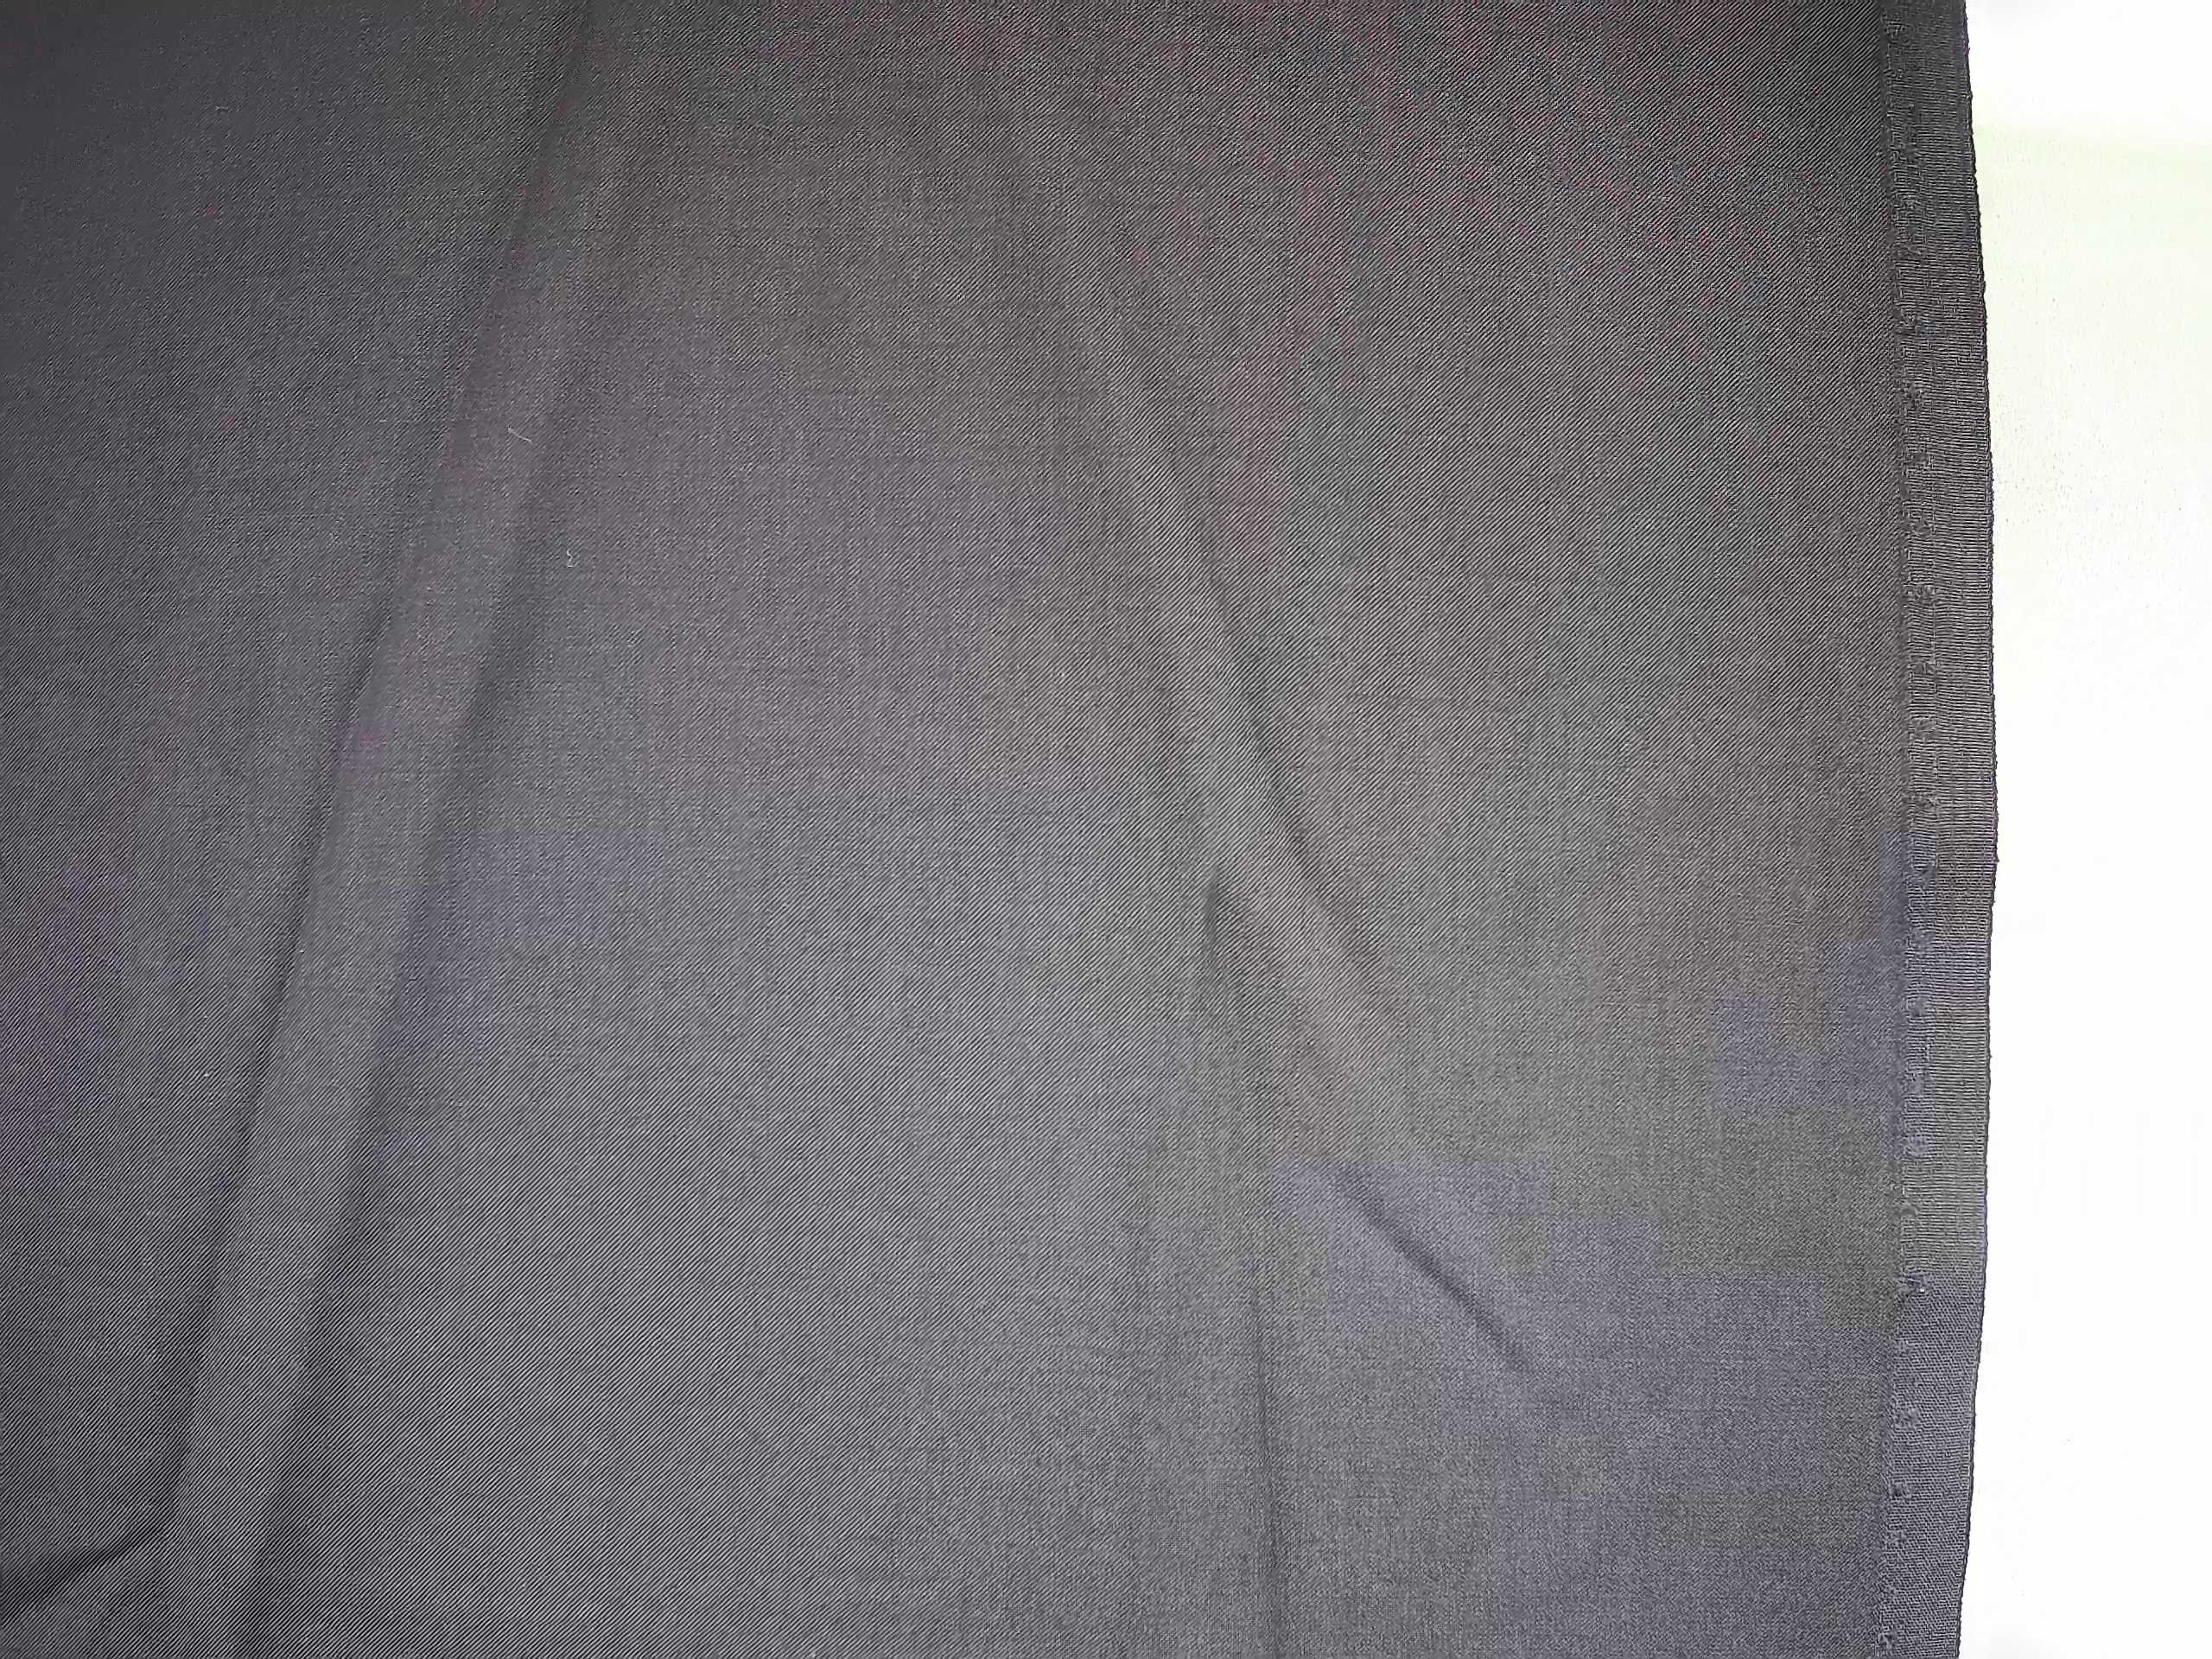puncture-hole: (1876, 228, 1949, 1502)
